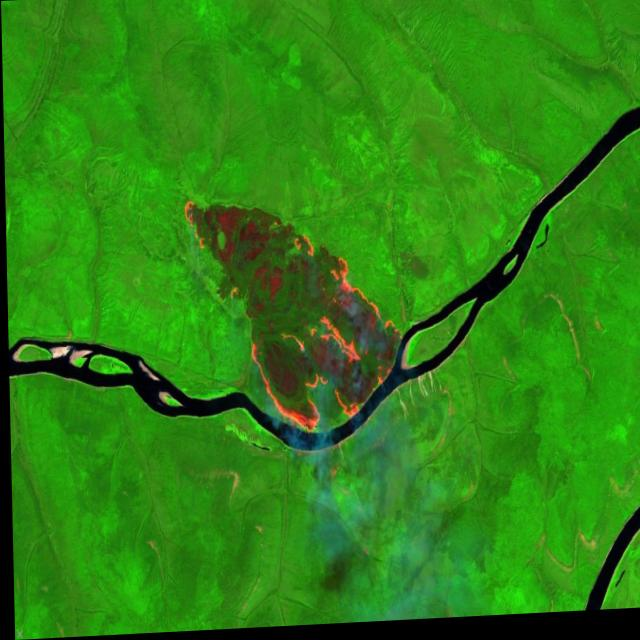fire: (180, 189, 404, 444)
